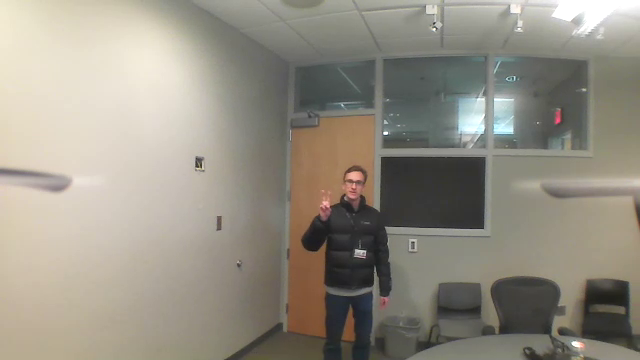peace: (313, 186, 338, 219)
